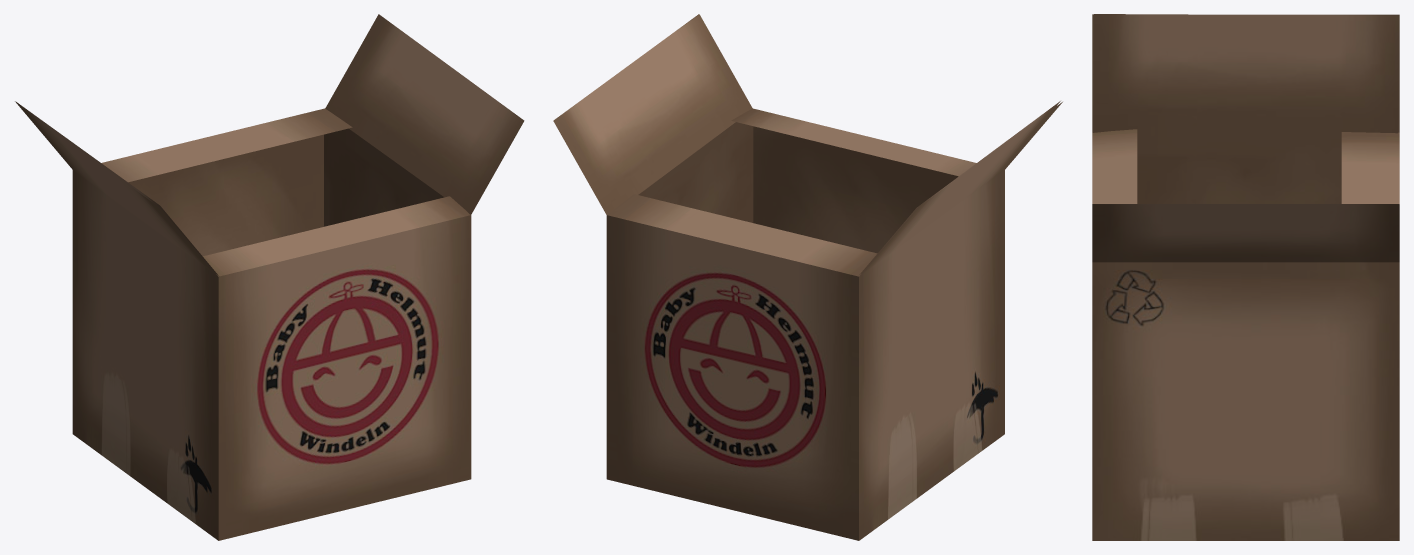
The model's file is boxboard_open.fbx.
3 views of the same model, side by side, from view 1: azimuth 30°, elevation 25°; view 2: azimuth 150°, elevation 25°; view 3: azimuth 270°, elevation 25° (orthographic). The views are drawn at different scales.
Visible parts, largest first — view 1: group46_pasted__group25_pasted__pasted__pCube16; view 2: group46_pasted__group25_pasted__pasted__pCube16; view 3: group46_pasted__group25_pasted__pasted__pCube16.
Boxes of the visible parts, <box> form: group46_pasted__group25_pasted__pasted__pCube16: <box>15,14,524,540</box>; group46_pasted__group25_pasted__pasted__pCube16: <box>553,14,1062,540</box>; group46_pasted__group25_pasted__pasted__pCube16: <box>1092,14,1399,540</box>.
Size of the model in its own units: 144 by 132 by 100.
